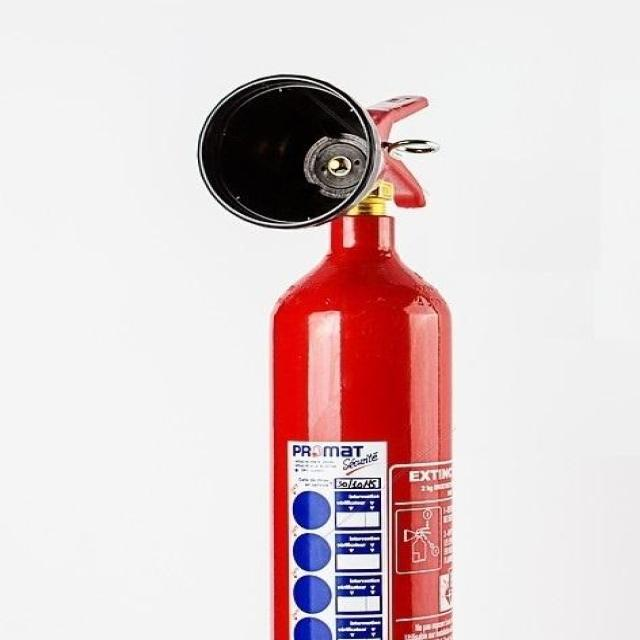fire_extinguisher: (189, 70, 460, 639)
